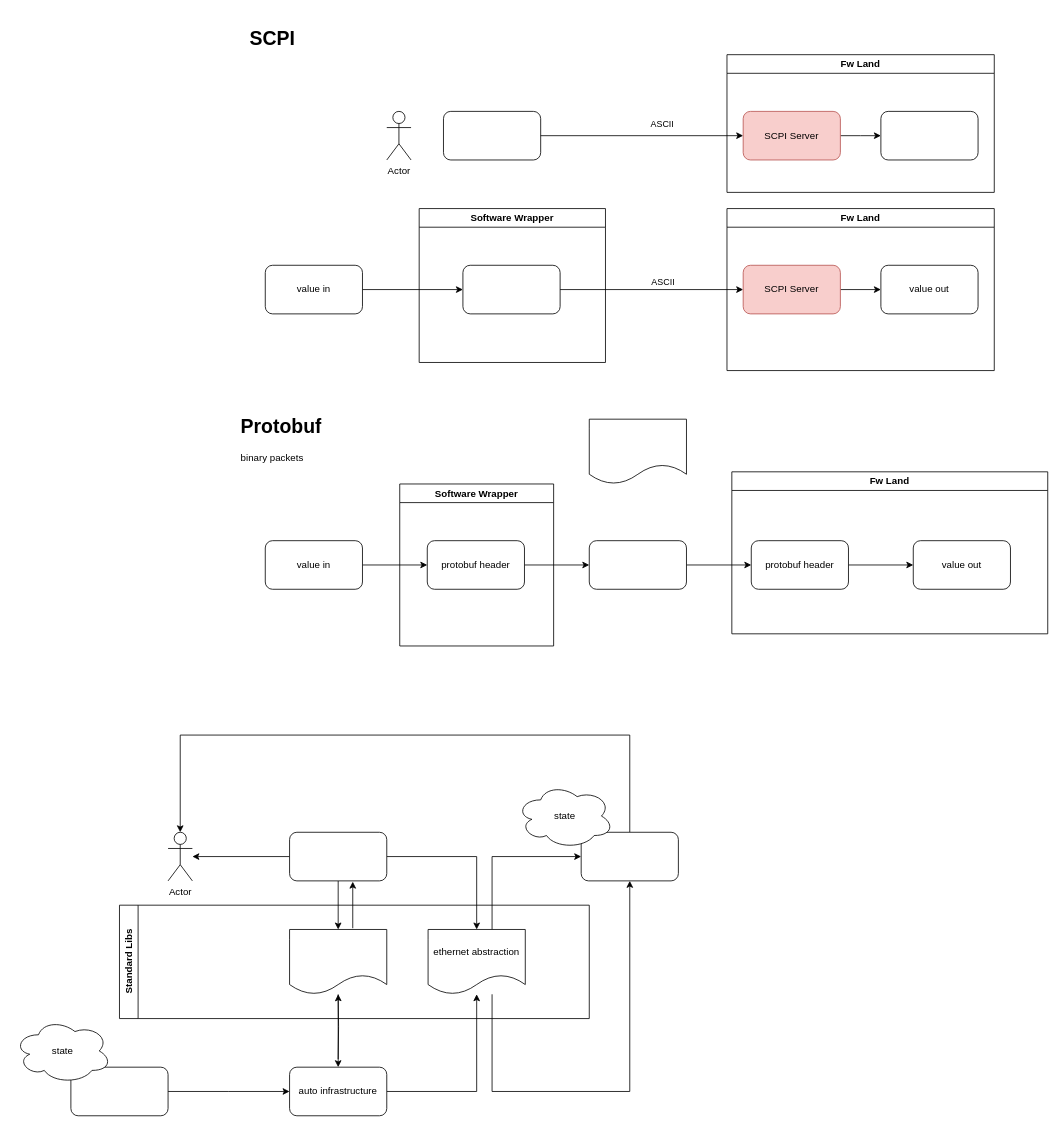
Image size: 1062x1130. Some labels were removed from this diagram. Each missing label, with the centre of its shape:
".proto" belongs at (637,451).
"binary" belongs at (637,564).
"board" belongs at (629,856).
"cli" belongs at (338,856).
"compiled to SCPI" belongs at (511,289).
"Front End" belongs at (119,1091).
"protocol library" belongs at (338,961).
"raptor" belongs at (929,135).
"terminal" belongs at (492,135).
